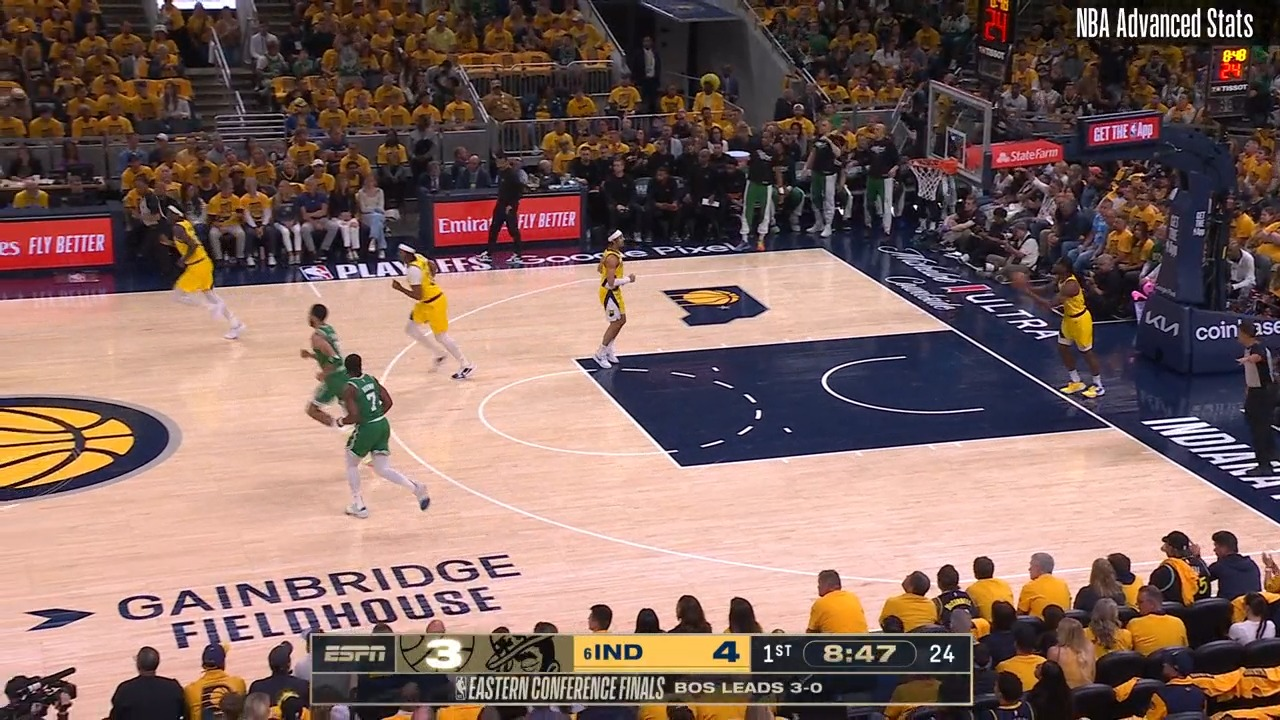basketball: (1008, 265, 1032, 292)
